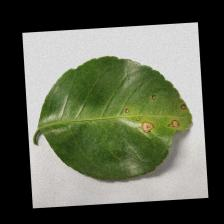canker: (116, 109, 195, 151)
